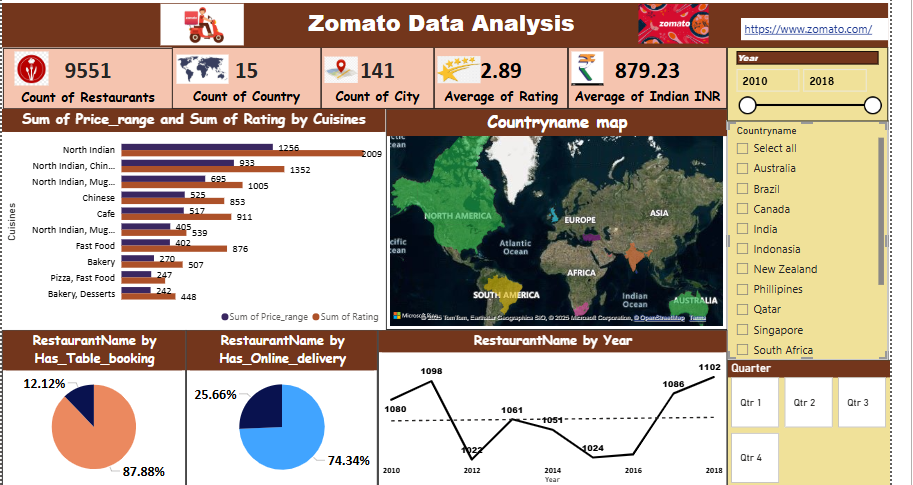

What the dashboard file says about the page in this screenshot:
{"tool":"tableau","page":{"name":"Dashboard 1","canvas":[1000,1000],"units":"permille","ordinal":0},"visuals":[{"type":"text","box":[7.9,14.9,981.6,78.4]},{"type":"image","param":"Image/Zomato images.png","box":[108.9,14.9,107.1,74.6]},{"type":"image","param":"Image/Zomato im.jpg","box":[800.7,16.9,144,72.1]},{"type":"filter","title":"Average INR","param":"[federated.18wjlec0wt7tcm15e60zw1mw4sp7].[mn:Calculation_825847635026563073:ok]","box":[889.4,98.2,100.1,486.2]},{"type":"worksheet","title":"Restaurants count","mark":"Automatic","box":[8.8,98.9,136.1,113.8]},{"type":"worksheet","title":"Country","mark":"Automatic","box":[145.7,98.9,141.3,115.7]},{"type":"worksheet","title":"City","mark":"Automatic","box":[288,98.9,159.8,115.7]},{"type":"worksheet","title":"Average Rating","mark":"Automatic","box":[449.5,98.9,158.9,113.8]},{"type":"worksheet","title":"Average INR","mark":"Automatic","box":[609.3,98.9,160.7,111.9]},{"type":"filter","title":"Average INR","param":"[federated.18wjlec0wt7tcm15e60zw1mw4sp7].[none:Countryname:nk]","box":[770,98.9,118.5,111.9]},{"type":"image","param":"Image/cuisine im.jpg","box":[21.9,156.4,88.7,50.6]},{"type":"image","param":"Image/city map image.png","box":[290.6,156.4,59.7,50.6]},{"type":"image","param":"Image/inr logo.jpeg","box":[611.1,156.4,58.8,50.6]},{"type":"image","param":"Image/Rating im.jpg","box":[453,158,53.6,49.1]},{"type":"image","param":"Image/Country map logo.jpg","box":[149.2,162.6,50.9,41.4]},{"type":"worksheet","title":"Ques  7","mark":"Pie","box":[597,212.7,172.1,298.5]},{"type":"filter","title":"Average INR","param":"[federated.18wjlec0wt7tcm15e60zw1mw4sp7].[qr:Calculation_825847635026563073:ok]","box":[770,214.6,117.7,238.8]},{"type":"worksheet","title":"9.3 ratings","mark":"Automatic","rows":["Cuisines"],"cols":["Rating"],"box":[8.8,216.3,200.2,470.9]},{"type":"worksheet","title":"Country map","mark":"Multipolygon","box":[210.7,216.3,385.4,455.5]},{"type":"filter","title":"Average INR","param":"[federated.18wjlec0wt7tcm15e60zw1mw4sp7].[yr:Calculation_825847635026563073:ok]","box":[771.7,455.2,115.9,130.6]},{"type":"worksheet","title":"Ques 5","mark":"Automatic","rows":["RestaurantName"],"cols":["Rating (bin)"],"box":[597,513.8,173.8,472.4]},{"type":"worksheet","title":"Ques 4.2","mark":"Circle","box":[771.7,584.4,218.6,400.3]},{"type":"worksheet","title":"Ques 4.1","mark":"Area","rows":["RestaurantName"],"cols":["Calculation_825847635026563073"],"box":[210.7,674.9,387.2,311.4]},{"type":"worksheet","title":"Ques 8","mark":"Pie","box":[7.9,690.2,201.1,294.5]}]}

Visuals, with their boxes on the dashboard's canvas, which has no fixed pixel size, in thousandths of its width and height (x1, y1, x2, y2). These are canvas units, not pixel positions in the 913x485 screenshot, which may show the page scaled, cropped or inside an application window:
text: BBox(8, 15, 990, 93)
image: BBox(109, 15, 216, 90)
image: BBox(801, 17, 945, 89)
"Average INR" filter: BBox(889, 98, 990, 584)
"Restaurants count" worksheet: BBox(9, 99, 145, 213)
"Country" worksheet: BBox(146, 99, 287, 215)
"City" worksheet: BBox(288, 99, 448, 215)
"Average Rating" worksheet: BBox(450, 99, 608, 213)
"Average INR" worksheet: BBox(609, 99, 770, 211)
"Average INR" filter: BBox(770, 99, 888, 211)
image: BBox(22, 156, 111, 207)
image: BBox(291, 156, 350, 207)
image: BBox(611, 156, 670, 207)
image: BBox(453, 158, 507, 207)
image: BBox(149, 163, 200, 204)
"Ques  7" worksheet (Pie marks): BBox(597, 213, 769, 511)
"Average INR" filter: BBox(770, 215, 888, 453)
"9.3 ratings" worksheet: BBox(9, 216, 209, 687)
"Country map" worksheet (Multipolygon marks): BBox(211, 216, 596, 672)
"Average INR" filter: BBox(772, 455, 888, 586)
"Ques 5" worksheet: BBox(597, 514, 771, 986)
"Ques 4.2" worksheet (Circle marks): BBox(772, 584, 990, 985)
"Ques 4.1" worksheet (Area marks): BBox(211, 675, 598, 986)
"Ques 8" worksheet (Pie marks): BBox(8, 690, 209, 985)
